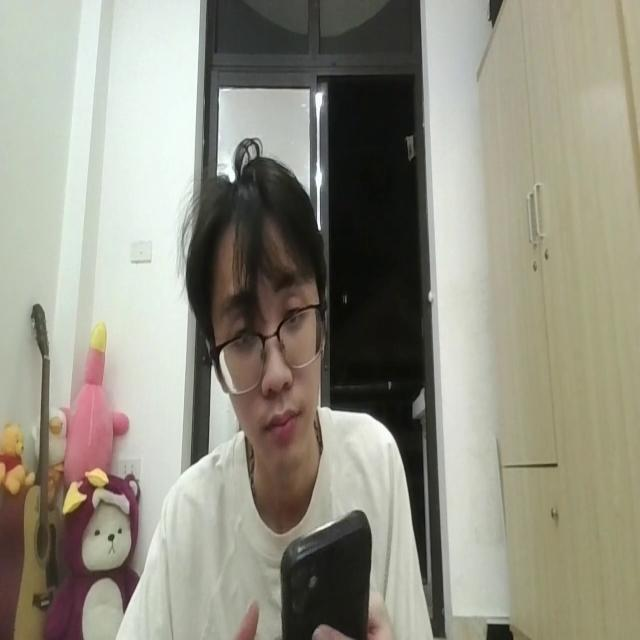phone: (279, 507, 372, 640)
student: (117, 142, 429, 640)
